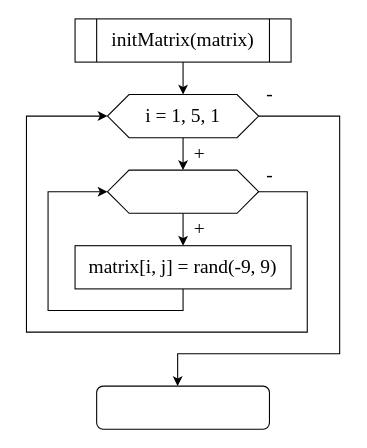
Image size: 367x448. Some labels were removed from this diagram. The centre of each missing label's shape, as x and y in pixels:
"j = 1, 7, 1" belongs at (x=182, y=191).
"кінець initMatrix" belongs at (x=182, y=407).
